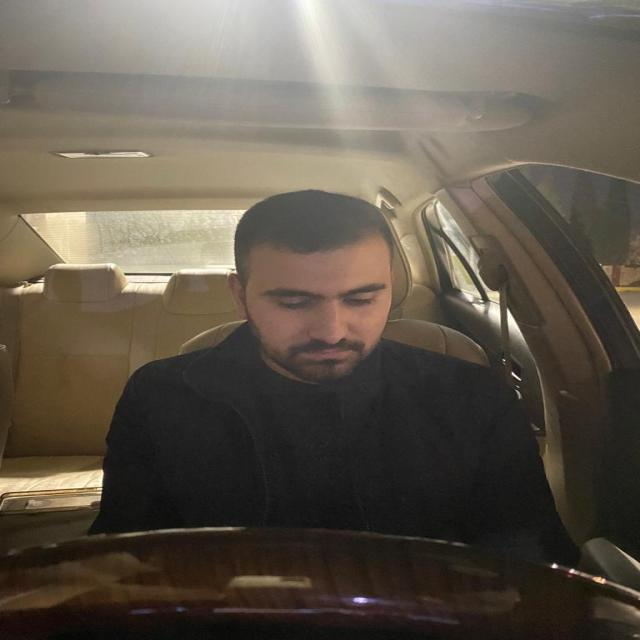drowsy: (222, 183, 410, 379)
